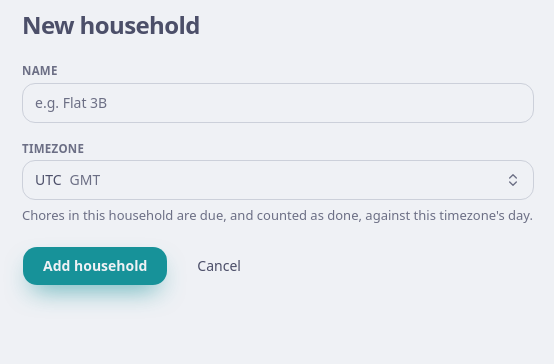
Test: HouseholdCreate › surfaces a create error and stays on the form
Type "x" into the field labelled "Name" at x=278, y=102, box [22,82,534,122]
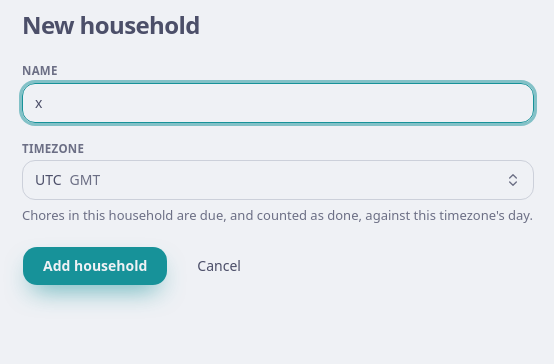
Click the button "Add household" at x=95, y=266, box [22,246,168,286]
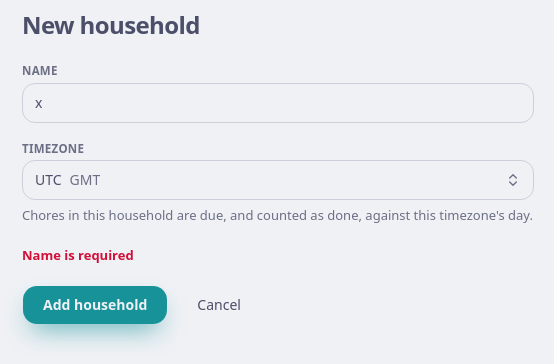
Check: the text "Name is required" is shown, box [22,246,134,264]
